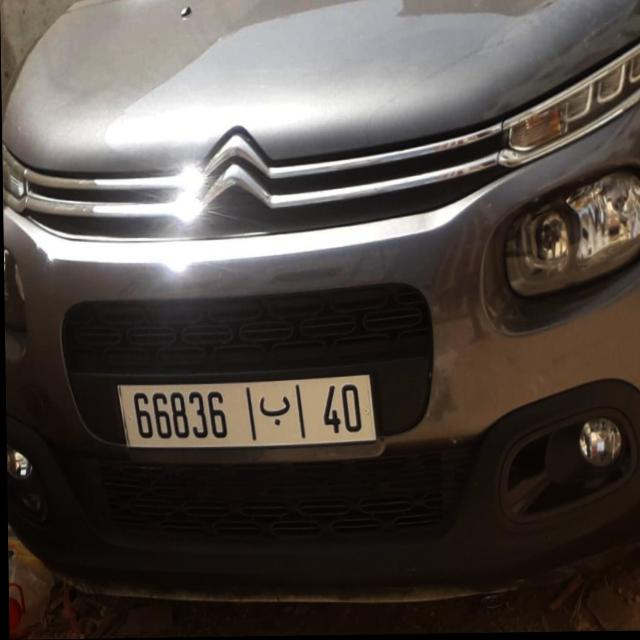License-Plate: (117, 376, 374, 448)
